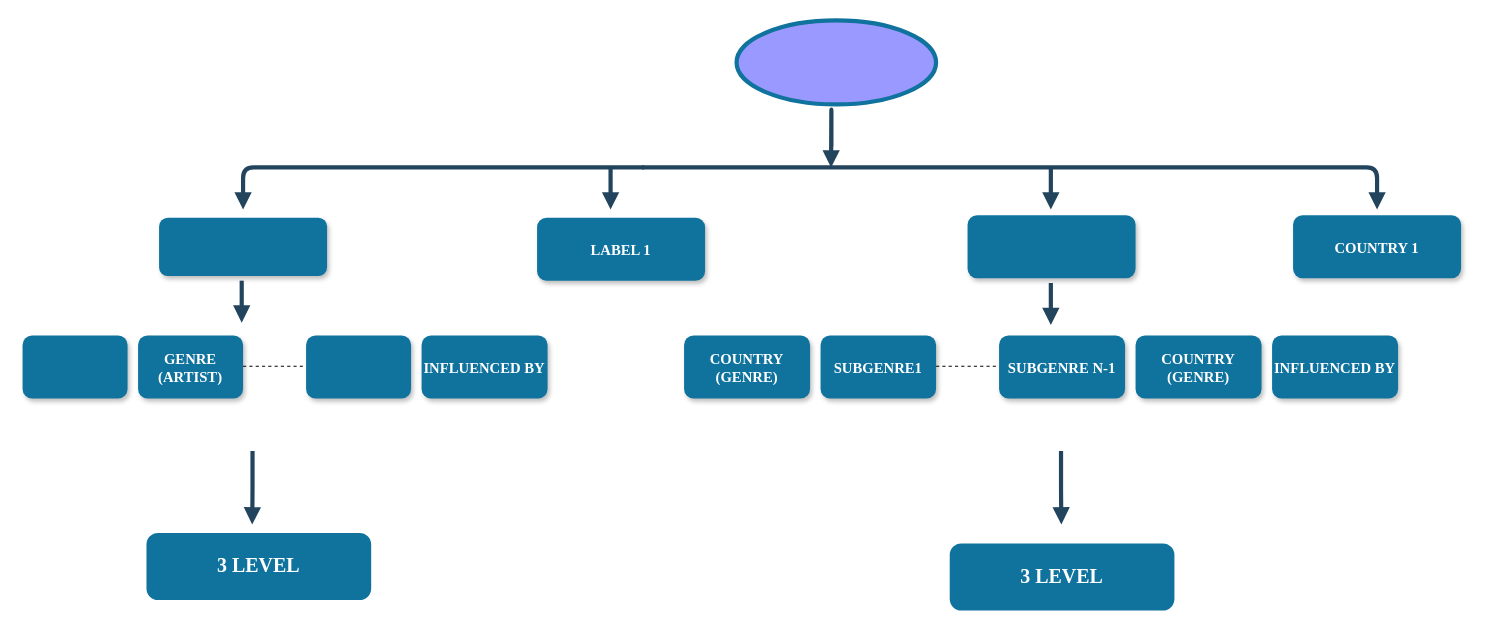
Image size: 1485x628. Some labels were removed from this diagram. The centre of each missing label's shape, as x and y in pixels:
ARTIST 1: point (243, 248)
GENRE 1: point (1052, 248)
GENRE N-1: point (359, 368)
INCEPTION: point (75, 368)
SONG1: point (836, 62)
